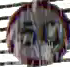Speed limit: (5, 0, 69, 66)
